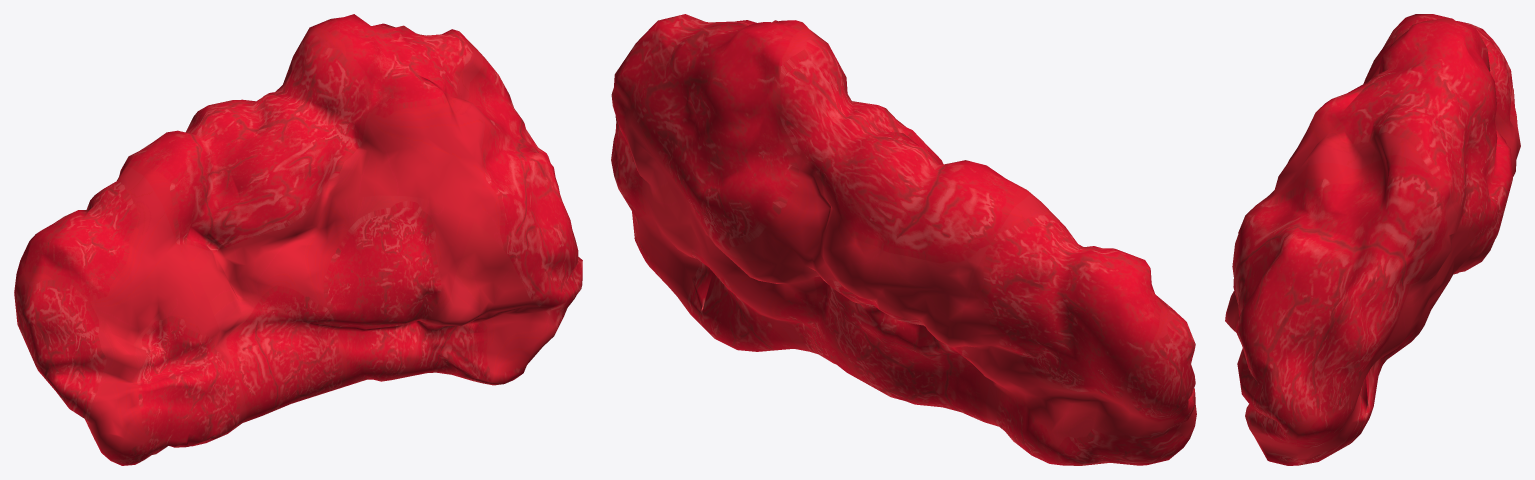
Rendered from SM_e_202_DemonMeatParts_03b.fbx.
The picture shows the model from 3 angles, left to right: view 1: azimuth 30°, elevation 25°; view 2: azimuth 150°, elevation 25°; view 3: azimuth 270°, elevation 25°; orthographic projection. The views are drawn at different scales.
Parts seen in each view (by area): view 1: SM_e_202_DemonMeatParts_03b.001; view 2: SM_e_202_DemonMeatParts_03b.001; view 3: SM_e_202_DemonMeatParts_03b.001.
Boxes of the visible parts, x1,y1,x2,y2 form: SM_e_202_DemonMeatParts_03b.001: (14, 14, 582, 465); SM_e_202_DemonMeatParts_03b.001: (611, 14, 1196, 465); SM_e_202_DemonMeatParts_03b.001: (1225, 14, 1520, 465).
Size of the model in its own units: 7.96 by 5.13 by 3.44.
Materials: 1 (1 with a texture image).
